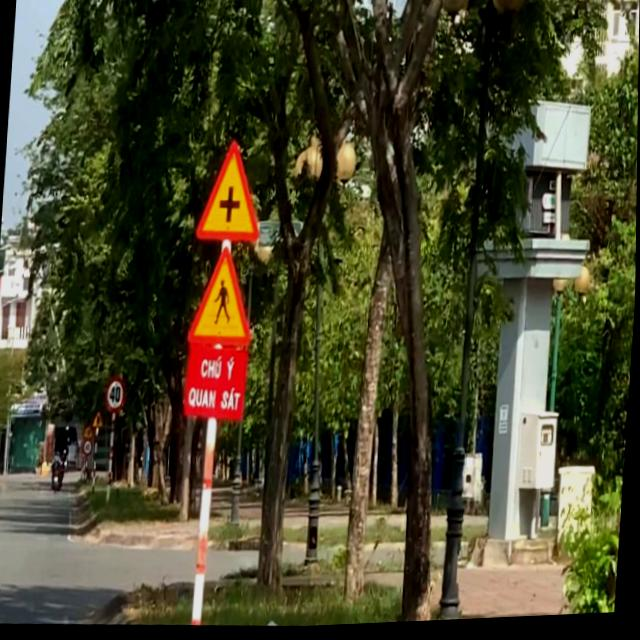Giao nhau voi duong khong uu tien ben phai: (92, 412, 106, 431)
Nguoi di bo cat ngang: (182, 241, 260, 353)
Toc do toi da cho phep: (103, 376, 129, 416)
